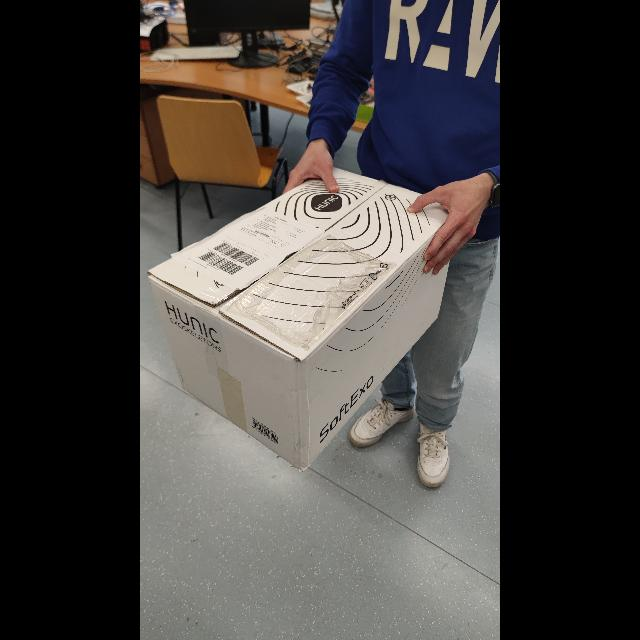cardboard_box: (150, 163, 458, 484)
